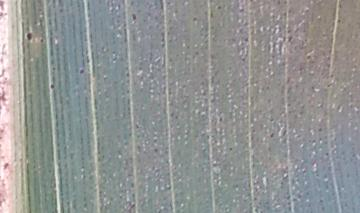tarspot: (21, 26, 37, 45), (45, 80, 59, 92), (75, 63, 87, 76), (268, 129, 277, 143), (335, 15, 345, 26), (130, 11, 139, 22), (317, 125, 324, 134)
